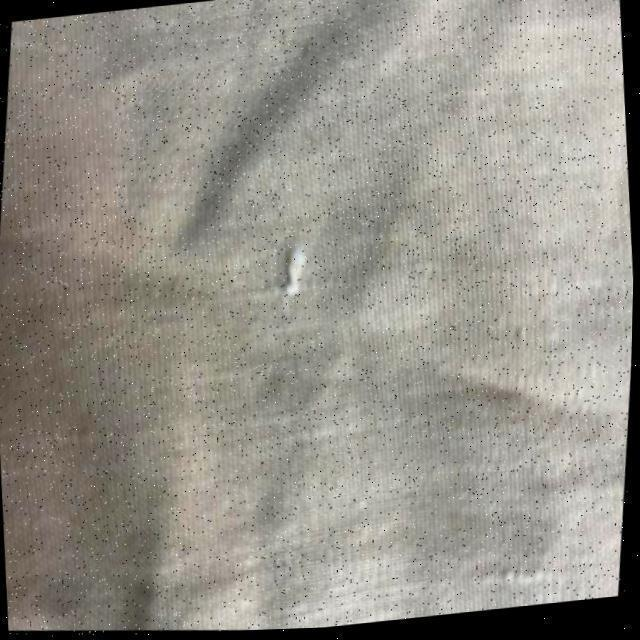pulled_or_thick_thread: (282, 241, 305, 297)
